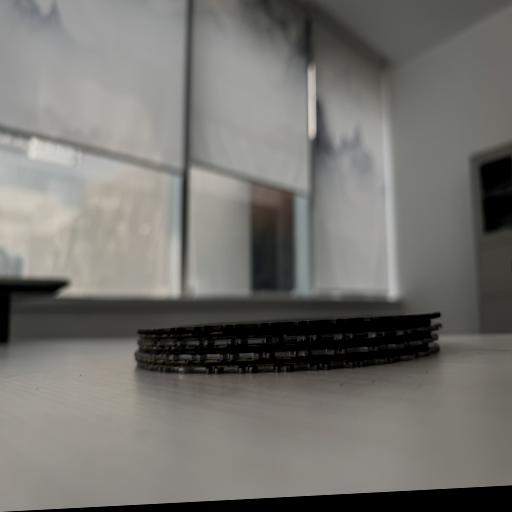black metal plate: (137, 311, 440, 335)
shiney metal plate: (138, 344, 440, 373), (137, 321, 442, 347), (134, 335, 438, 361)
spacer: (138, 331, 430, 354), (139, 319, 430, 342), (137, 343, 428, 366)
